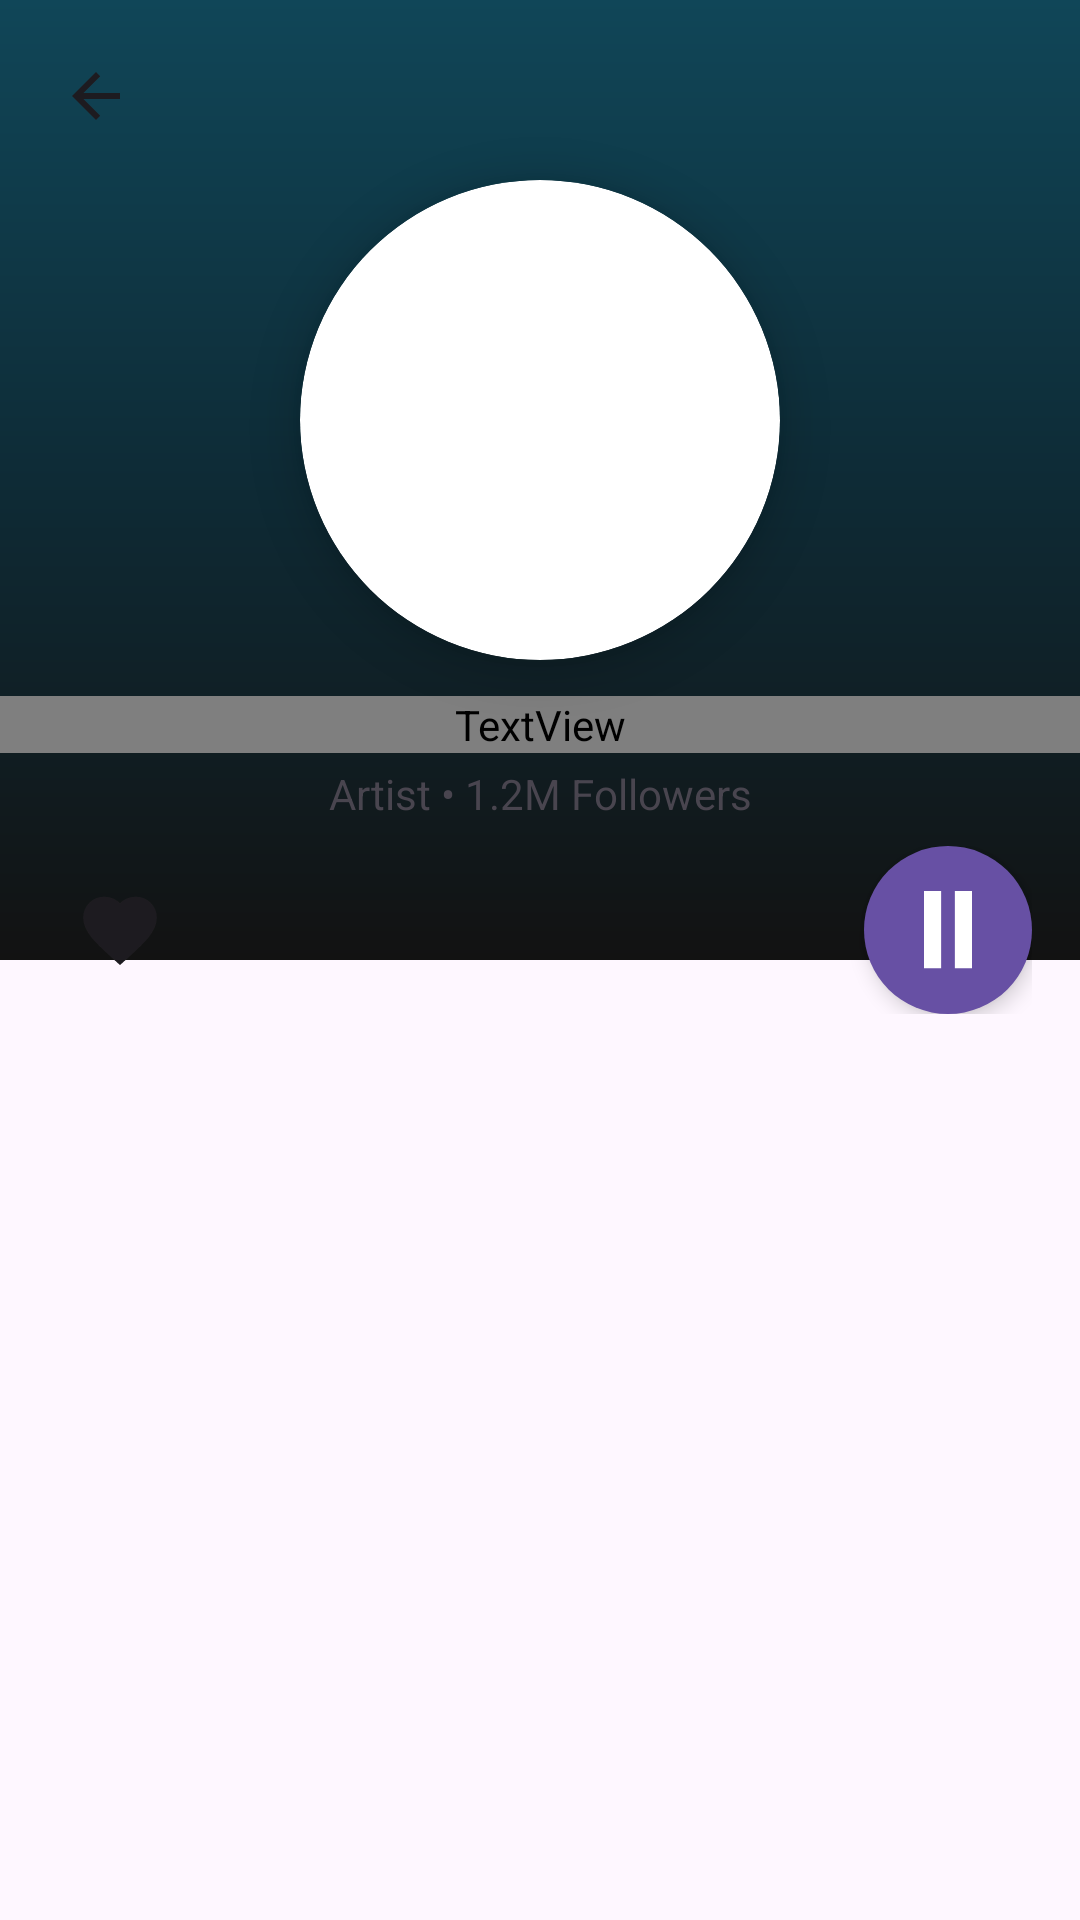

Icons on this 1080w x 1920h Android screen, each with the point to tap as point (x, y):
arrow back: point (96, 96)
play to pause: point (948, 930)
